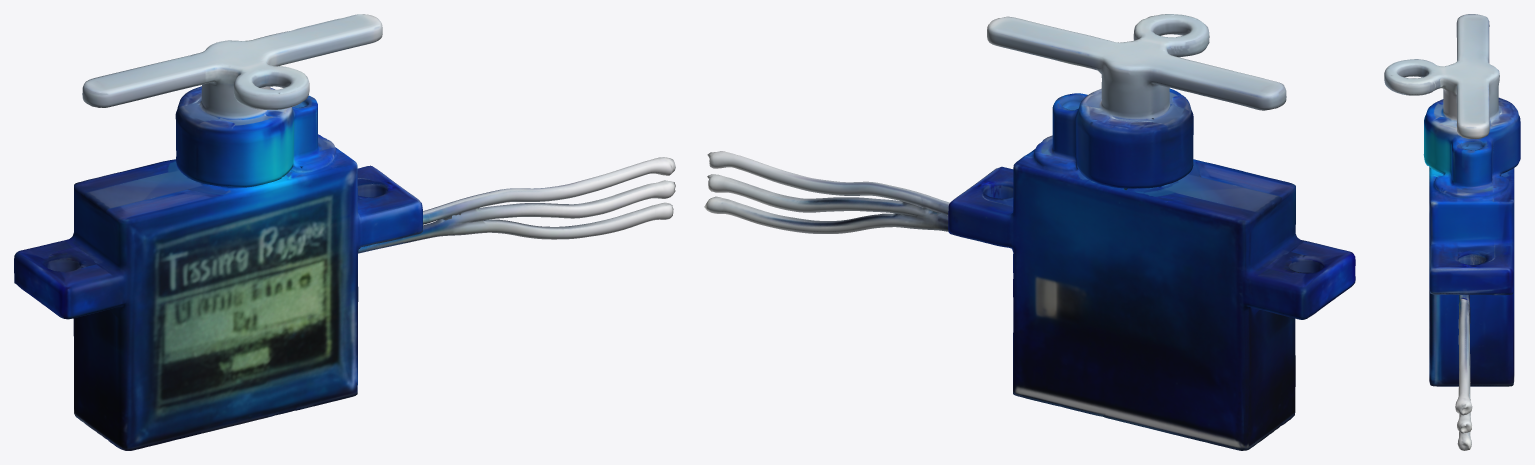
Rendered from aktuator_servo.glb.
3 views of the same model, side by side, from view 1: azimuth 30°, elevation 25°; view 2: azimuth 150°, elevation 25°; view 3: azimuth 270°, elevation 25° (orthographic). The views are drawn at different scales.
Visible parts, largest first — view 1: Mesh1_Mesh1.061; view 2: Mesh1_Mesh1.061; view 3: Mesh1_Mesh1.061.
Part boxes in pixels (x1=…): Mesh1_Mesh1.061: x1=14, y1=14, x2=675, y2=450; Mesh1_Mesh1.061: x1=704, y1=14, x2=1355, y2=450; Mesh1_Mesh1.061: x1=1384, y1=14, x2=1520, y2=450.
Size of the model in its own units: 2 by 1.05 by 0.4679.
1 material, 1 textured.
